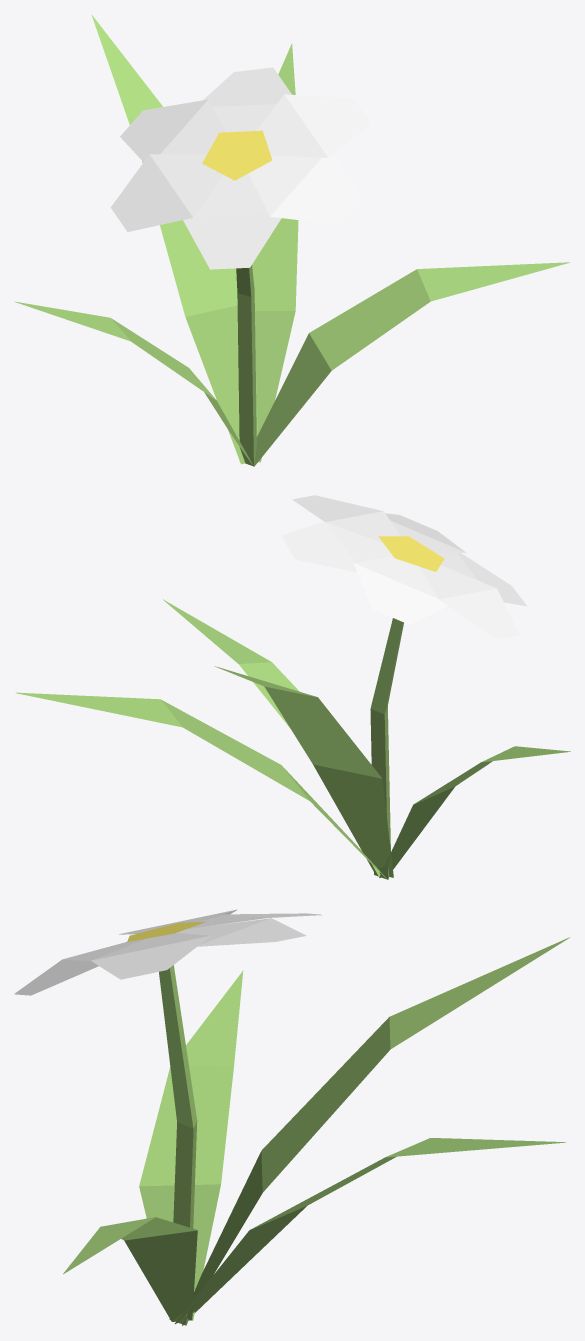
The model's file is Flower_e_TwoS_09.fbx.
3 views of the same model, one above another, from view 1: azimuth 30°, elevation 25°; view 2: azimuth 150°, elevation 25°; view 3: azimuth 270°, elevation 25° (orthographic). The views are drawn at different scales.
Parts seen in each view (by area): view 1: Flower_e_TwoS_09; view 2: Flower_e_TwoS_09; view 3: Flower_e_TwoS_09.
Boxes of the visible parts, <box> form: Flower_e_TwoS_09: <box>15,15,570,466</box>; Flower_e_TwoS_09: <box>16,495,570,879</box>; Flower_e_TwoS_09: <box>14,909,570,1325</box>.
Size of the model in its own units: 41.9 by 29.3 by 35.5.
